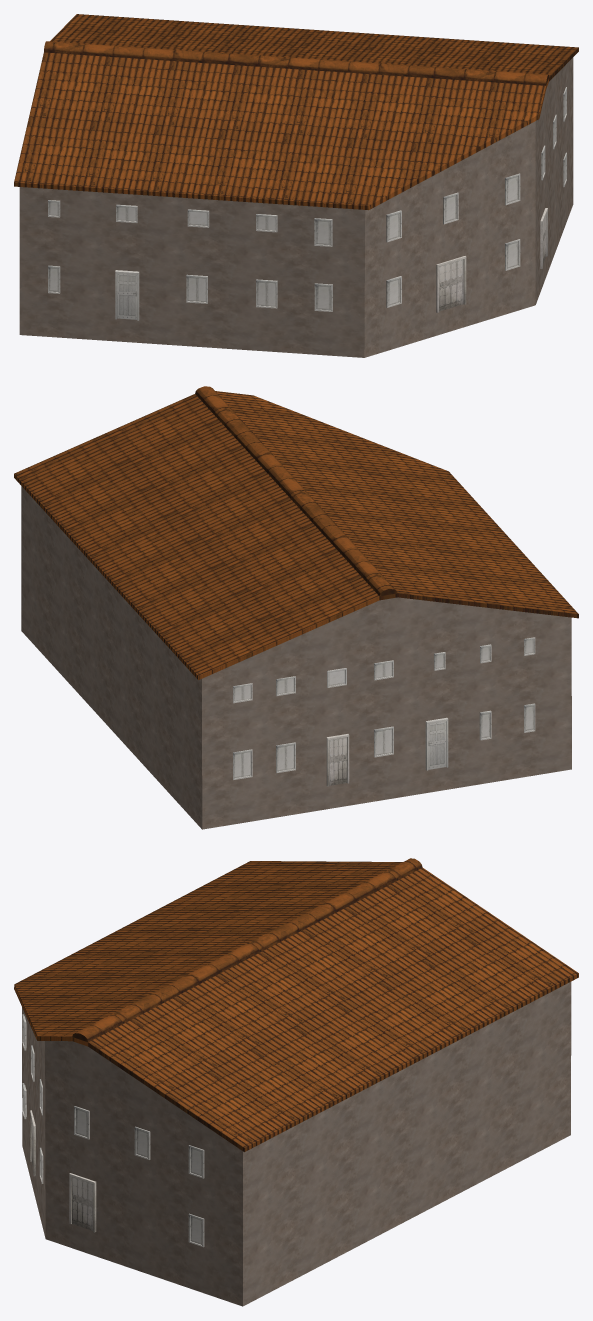
File: Casa_1.fbx
The picture shows the model from 3 angles, top to bottom: view 1: azimuth 30°, elevation 25°; view 2: azimuth 150°, elevation 25°; view 3: azimuth 270°, elevation 25°; orthographic projection. The views are drawn at different scales.
Visible parts, largest first — view 1: Casa_1; view 2: Casa_1; view 3: Casa_1.
Part boxes in pixels (box(x1,y1,x2,y2)): Casa_1: box(14, 14, 578, 357); Casa_1: box(14, 386, 578, 829); Casa_1: box(14, 858, 578, 1306).
Bounding box in the file's own units: 24.72 × 8.84 × 20.56.
